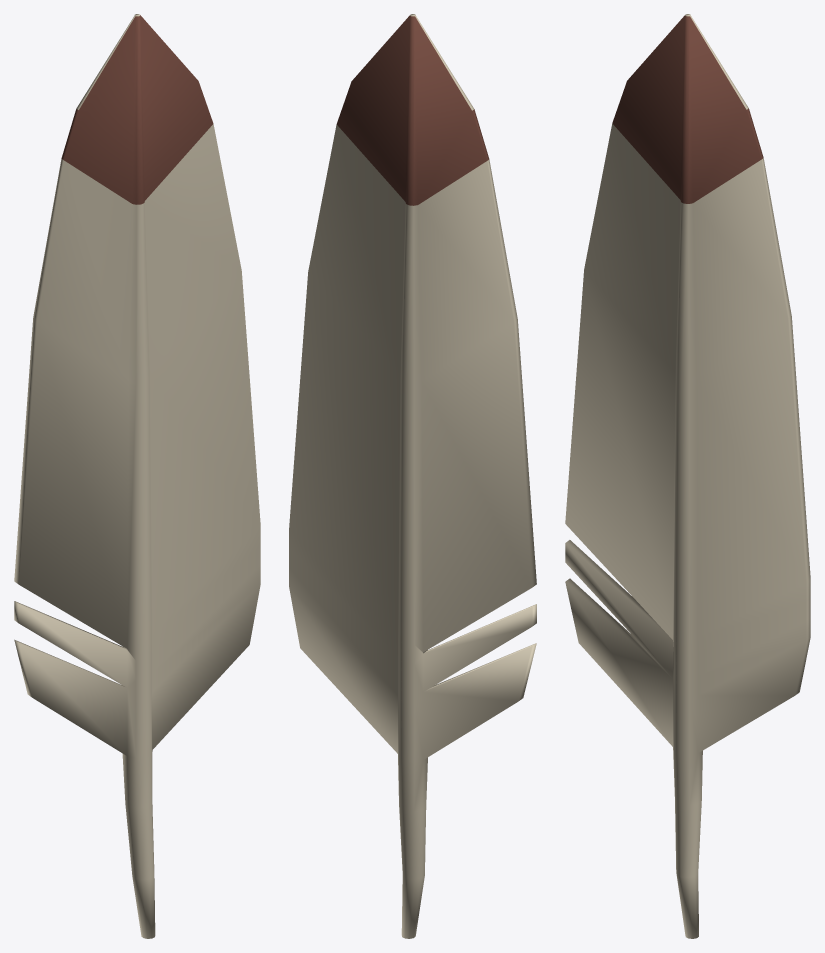
Rendered from feather.fbx.
3 renders of one model, left to right at view 1: azimuth 30°, elevation 25°; view 2: azimuth 150°, elevation 25°; view 3: azimuth 330°, elevation 25°, orthographic.
Visible parts, largest first — view 1: Feather; view 2: Feather; view 3: Feather.
Part boxes in pixels (x1=…): Feather: x1=14, y1=14, x2=260, y2=938; Feather: x1=289, y1=14, x2=536, y2=938; Feather: x1=565, y1=14, x2=810, y2=938.
Bounding box in the file's own units: 26.96 × 3.22 × 98.04.
